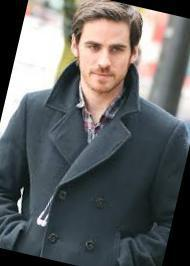Sober: (84, 22, 129, 87)
